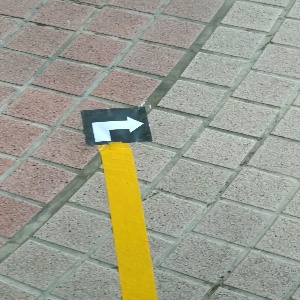right: (81, 107, 153, 144)
